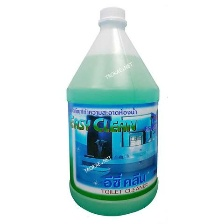cleaning_solution: (62, 4, 162, 217)
